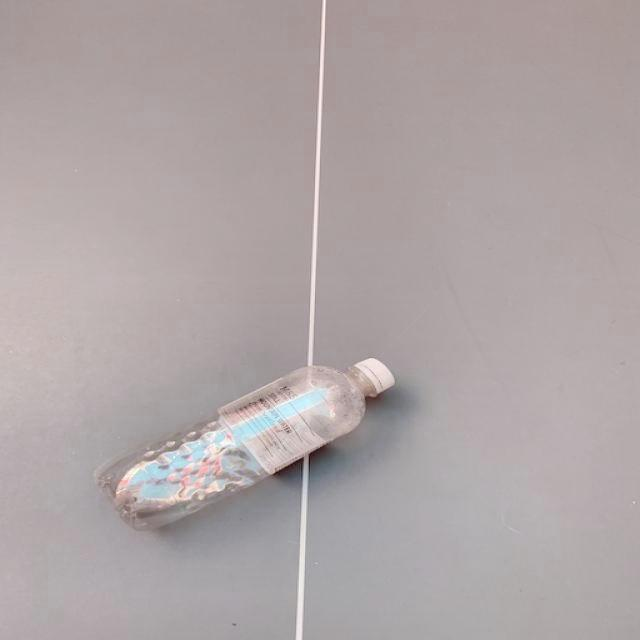bottle: (93, 359, 397, 534)
